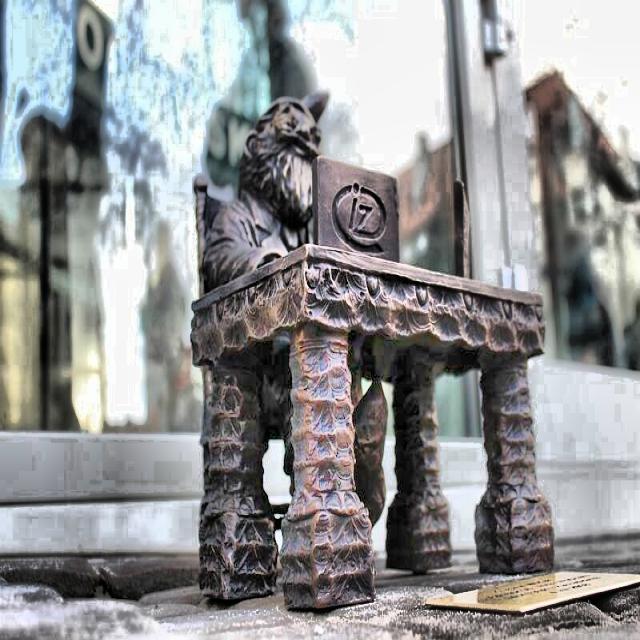WIZek: (191, 94, 554, 610)
